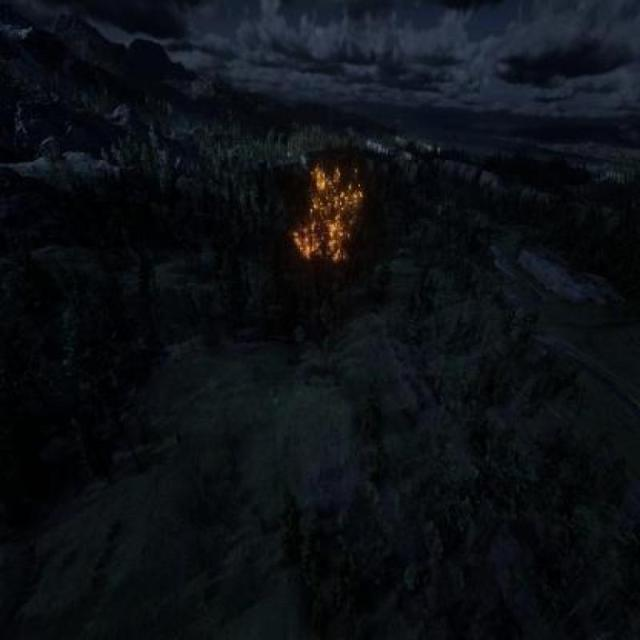Fire: (295, 154, 365, 271)
